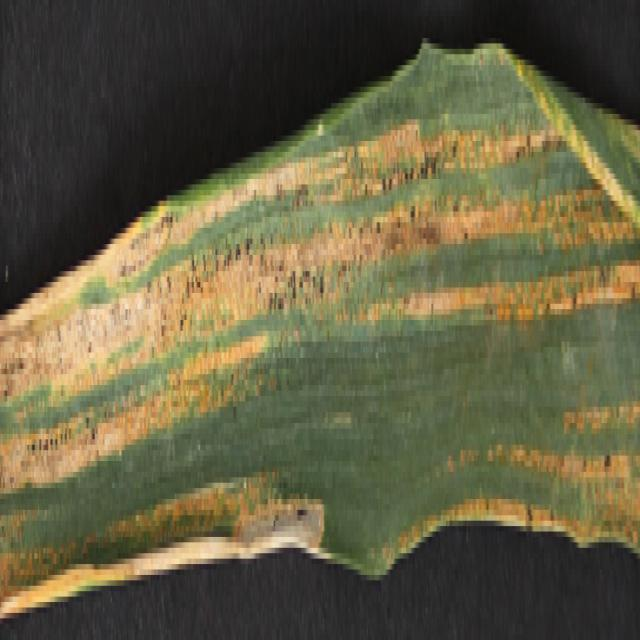leaf rust: (1, 125, 637, 602)
